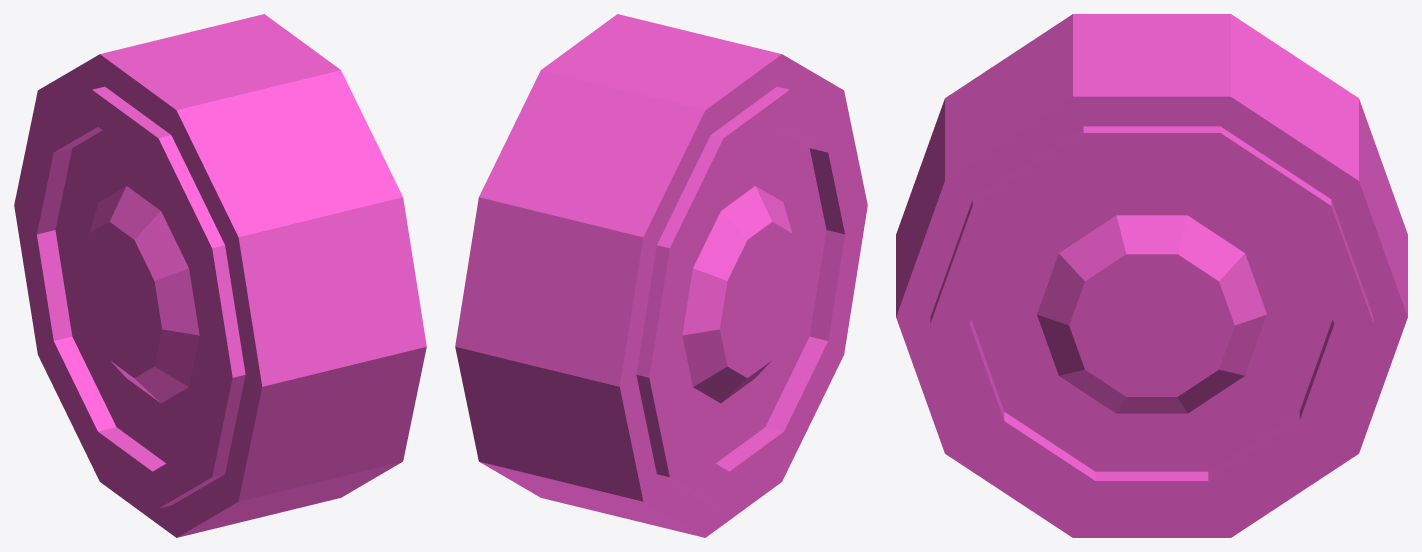
Rendered from 1_bakwe.FBX.
3 views of the same model, side by side, from view 1: azimuth 30°, elevation 25°; view 2: azimuth 150°, elevation 25°; view 3: azimuth 270°, elevation 25° (orthographic). The views are drawn at different scales.
Parts seen in each view (by area): view 1: Object001; view 2: Object001; view 3: Object001.
Boxes of the visible parts, x1=… form: Object001: x1=14, y1=14, x2=426, y2=537; Object001: x1=455, y1=14, x2=867, y2=537; Object001: x1=896, y1=14, x2=1407, y2=537.
Size of the model in its own units: 25.22 by 52.33 by 55.03.
